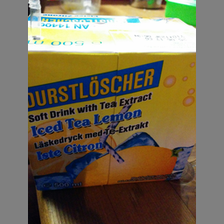juice: (28, 11, 196, 189)
